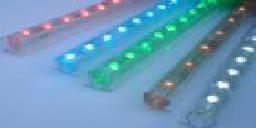LED: (201, 92, 222, 108), (61, 49, 79, 67), (97, 31, 116, 44), (16, 28, 35, 40), (106, 59, 122, 73)
